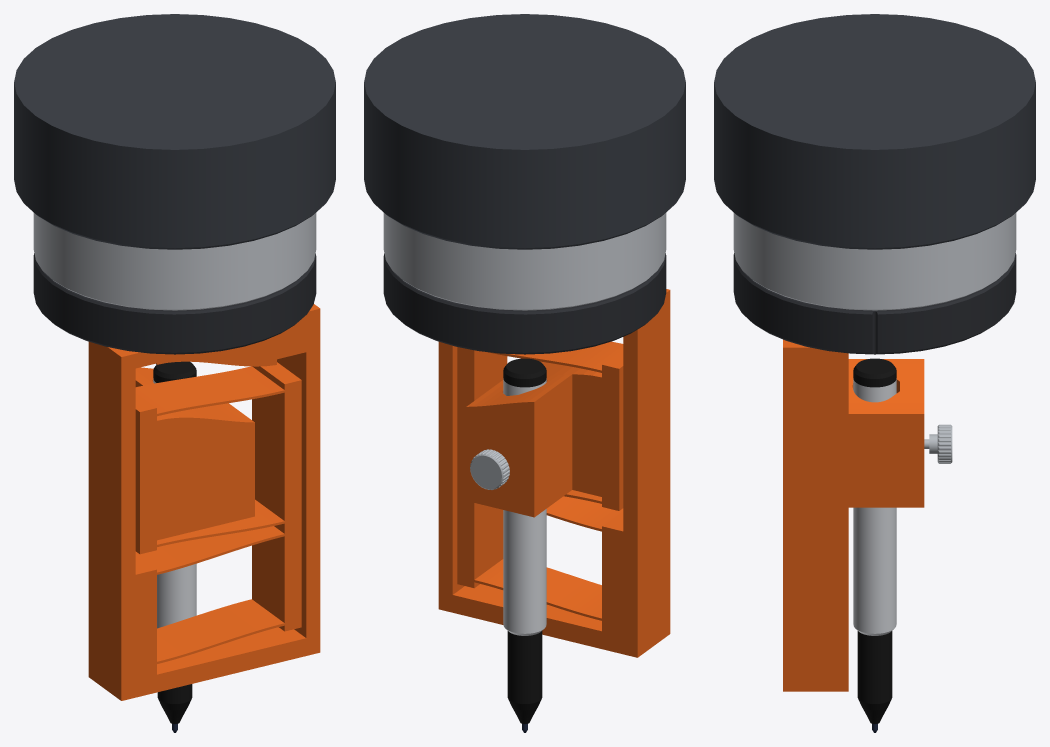
Rendered from Pen Holder v2 - Assembly.glb.
The picture shows the model from 3 angles, left to right: view 1: azimuth 30°, elevation 25°; view 2: azimuth 150°, elevation 25°; view 3: azimuth 270°, elevation 25°; orthographic projection.
Parts seen in each view (by area): view 1: Flexure module, UTRA 6-1000 J6 housing (ref), UTRA 6-1000 tool flange (ref), Tool adapter (v1), Pen barrel, Pen front, Pen end; view 2: UTRA 6-1000 J6 housing (ref), Flexure module, UTRA 6-1000 tool flange (ref), Tool adapter (v1), Pen barrel, Pen front, M3x10 thumb screw, Pen end; view 3: UTRA 6-1000 J6 housing (ref), Flexure module, UTRA 6-1000 tool flange (ref), Tool adapter (v1), Pen barrel, Pen front, Pen end, M3x10 thumb screw.
Part boxes in pixels (x1,y1,x2,y2): Flexure module: [88, 304, 320, 700]; UTRA 6-1000 J6 housing (ref): [14, 14, 335, 249]; UTRA 6-1000 tool flange (ref): [33, 213, 316, 310]; Tool adapter (v1): [33, 253, 316, 354]; Pen barrel: [153, 378, 196, 628]; Pen front: [157, 684, 192, 723]; Pen end: [153, 361, 196, 382]; UTRA 6-1000 J6 housing (ref): [364, 14, 685, 249]; Flexure module: [438, 289, 670, 657]; UTRA 6-1000 tool flange (ref): [383, 213, 666, 310]; Tool adapter (v1): [383, 253, 666, 354]; Pen barrel: [503, 378, 546, 635]; Pen front: [507, 631, 542, 723]; M3x10 thumb screw: [470, 449, 509, 489]; Pen end: [503, 358, 546, 387]; UTRA 6-1000 J6 housing (ref): [714, 14, 1035, 249]; Flexure module: [783, 339, 924, 691]; UTRA 6-1000 tool flange (ref): [733, 213, 1016, 310]; Tool adapter (v1): [733, 253, 1016, 354]; Pen barrel: [853, 378, 896, 635]; Pen front: [857, 631, 892, 723]; Pen end: [853, 358, 896, 387]; M3x10 thumb screw: [924, 424, 952, 463].
Size of the model in its own units: 0.098 by 0.2186 by 0.098.
